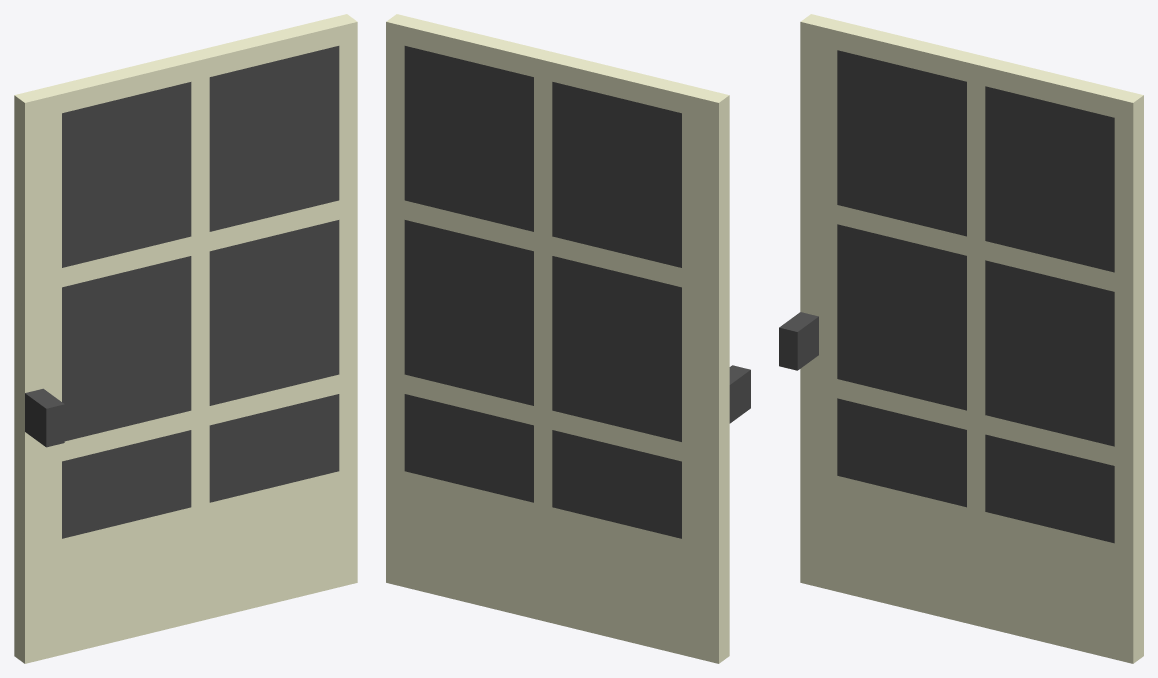
Rendered from cake_shop-1.obj.
The picture shows the model from 3 angles, left to right: view 1: azimuth 30°, elevation 25°; view 2: azimuth 150°, elevation 25°; view 3: azimuth 330°, elevation 25°; orthographic projection.
Visible parts, largest first — view 1: cake_shop-1; view 2: cake_shop-1; view 3: cake_shop-1.
Boxes of the visible parts, x1,y1,x2,y2 form: cake_shop-1: (14, 14, 357, 663); cake_shop-1: (386, 14, 750, 663); cake_shop-1: (779, 14, 1143, 663).
Bounding box in the file's own units: 18 × 29 × 3.
Materials: 1 (1 with a texture image).
